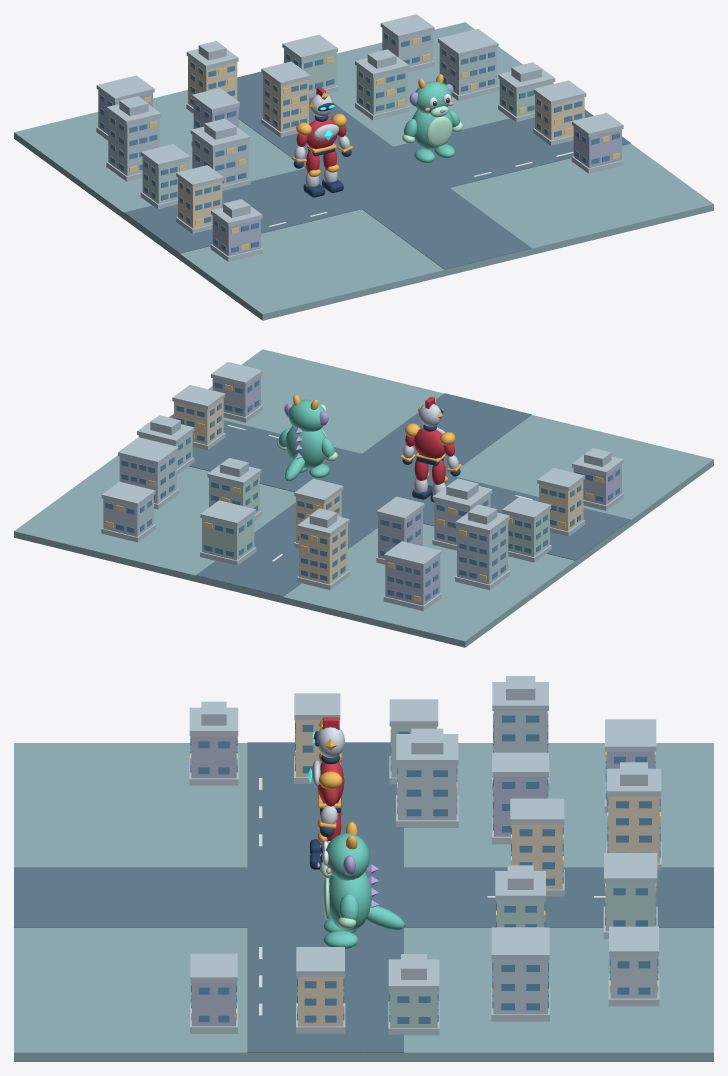
3 views of the same model, one above another, from view 1: azimuth 30°, elevation 25°; view 2: azimuth 150°, elevation 25°; view 3: azimuth 270°, elevation 25° (orthographic). The views are drawn at different scales.
Visible parts, largest first — view 1: Ground, CentralRoad, CrossRoad, BuildingModule_05, BuildingModule_01, BuildingModule_04, BuildingModule_13, BuildingModule_03, BuildingModule_15, BuildingModule_10, BuildingModule_14, BuildingModule_11 (+10 smaller); view 2: Ground, CentralRoad, CrossRoad, BuildingModule_01, BuildingModule_07, BuildingModule_06, BuildingModule_08, BuildingModule_05, BuildingModule_09, BuildingModule_12, BuildingModule_15, BuildingModule_11 (+10 smaller); view 3: Ground, CentralRoad, CrossRoad, BuildingModule_13, BuildingModule_05, BuildingModule_07, BuildingModule_03, BuildingModule_15, BuildingModule_01, BuildingModule_09, BuildingModule_16, BuildingModule_10 (+11 smaller).
Part boxes in pixels (x1,y1,x2,y2): Ground: (14,22,713,320); CentralRoad: (124,109,630,253); CrossRoad: (237,71,531,269); BuildingModule_05: (438,29,498,100); BuildingModule_01: (106,96,161,181); BuildingModule_04: (355,49,409,120); BuildingModule_13: (190,118,250,190); BuildingModule_03: (261,61,310,137); BuildingModule_15: (533,80,586,145); BuildingModule_10: (210,199,262,261); BuildingModule_14: (571,113,623,173); BuildingModule_11: (176,165,223,233); Ground: (14,349,713,647); CentralRoad: (169,414,630,560); CrossRoad: (196,393,531,596); BuildingModule_01: (455,504,510,589); BuildingModule_07: (297,508,349,589); BuildingModule_06: (383,541,441,611); BuildingModule_08: (200,500,256,565); BuildingModule_05: (118,437,178,509); BuildingModule_09: (101,481,155,542); BuildingModule_12: (502,497,551,562); BuildingModule_15: (172,385,225,450); BuildingModule_11: (537,468,585,536); Ground: (14,743,713,1061); CentralRoad: (247,742,403,1052); CrossRoad: (14,867,713,927); BuildingModule_13: (396,728,458,827); BuildingModule_05: (491,927,549,1021); BuildingModule_07: (606,762,661,870); BuildingModule_03: (510,798,564,896); BuildingModule_15: (296,947,345,1033); BuildingModule_01: (492,676,549,789); BuildingModule_09: (608,926,659,1006); BuildingModule_16: (388,954,439,1035); BuildingModule_10: (189,701,238,785).
Size of the model in its own units: 22 by 5 by 21.
